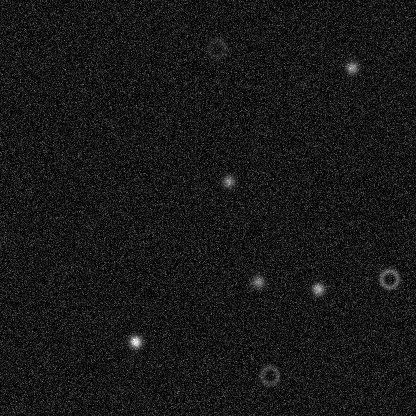Ring: (257, 363, 281, 387), (377, 266, 401, 290), (204, 35, 228, 59)
Spot: (344, 59, 360, 75), (310, 280, 326, 296), (220, 173, 236, 189), (127, 333, 143, 349), (250, 273, 266, 289)
